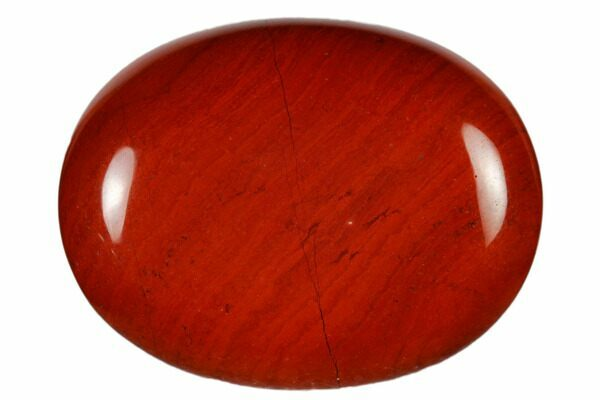Red_Jasper: (58, 18, 543, 390)
